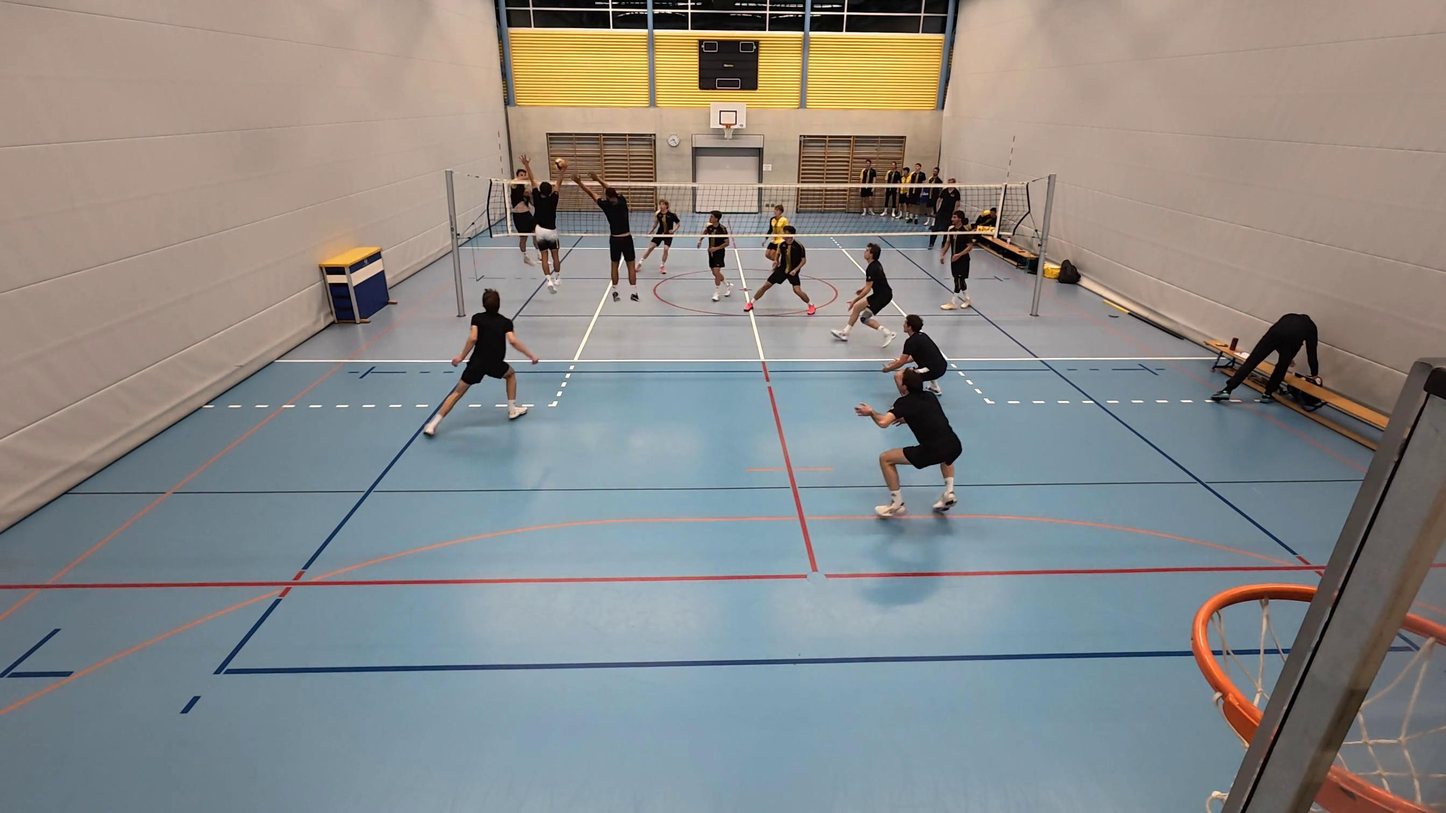attacco: (503, 156, 545, 280)
muro: (571, 166, 644, 303), (526, 155, 570, 292)
